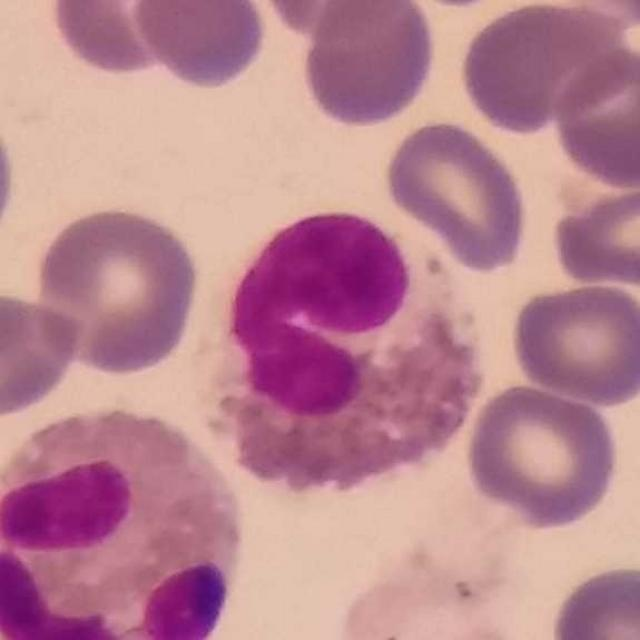Eosinophil: (215, 203, 482, 493), (0, 395, 254, 640)
RBC: (29, 200, 205, 378), (380, 115, 532, 275), (462, 381, 622, 532), (456, 0, 624, 138), (298, 0, 440, 130), (506, 278, 639, 408), (547, 41, 640, 191), (44, 0, 210, 80), (129, 0, 270, 93), (335, 572, 517, 640), (0, 287, 85, 422), (547, 172, 640, 293), (546, 558, 640, 640), (252, 0, 416, 41), (0, 96, 20, 264), (570, 0, 640, 36)
